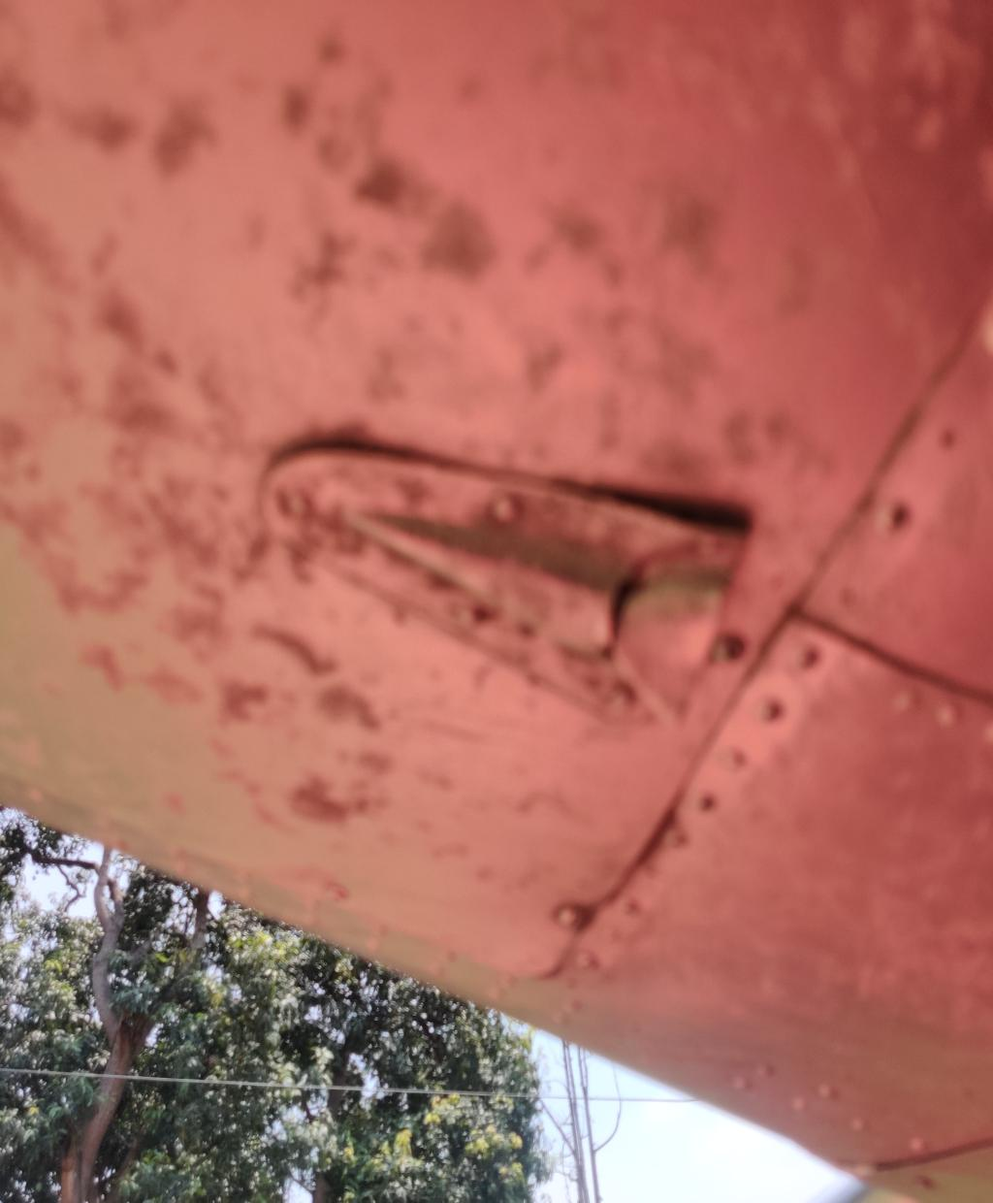crack: (576, 544, 687, 684)
